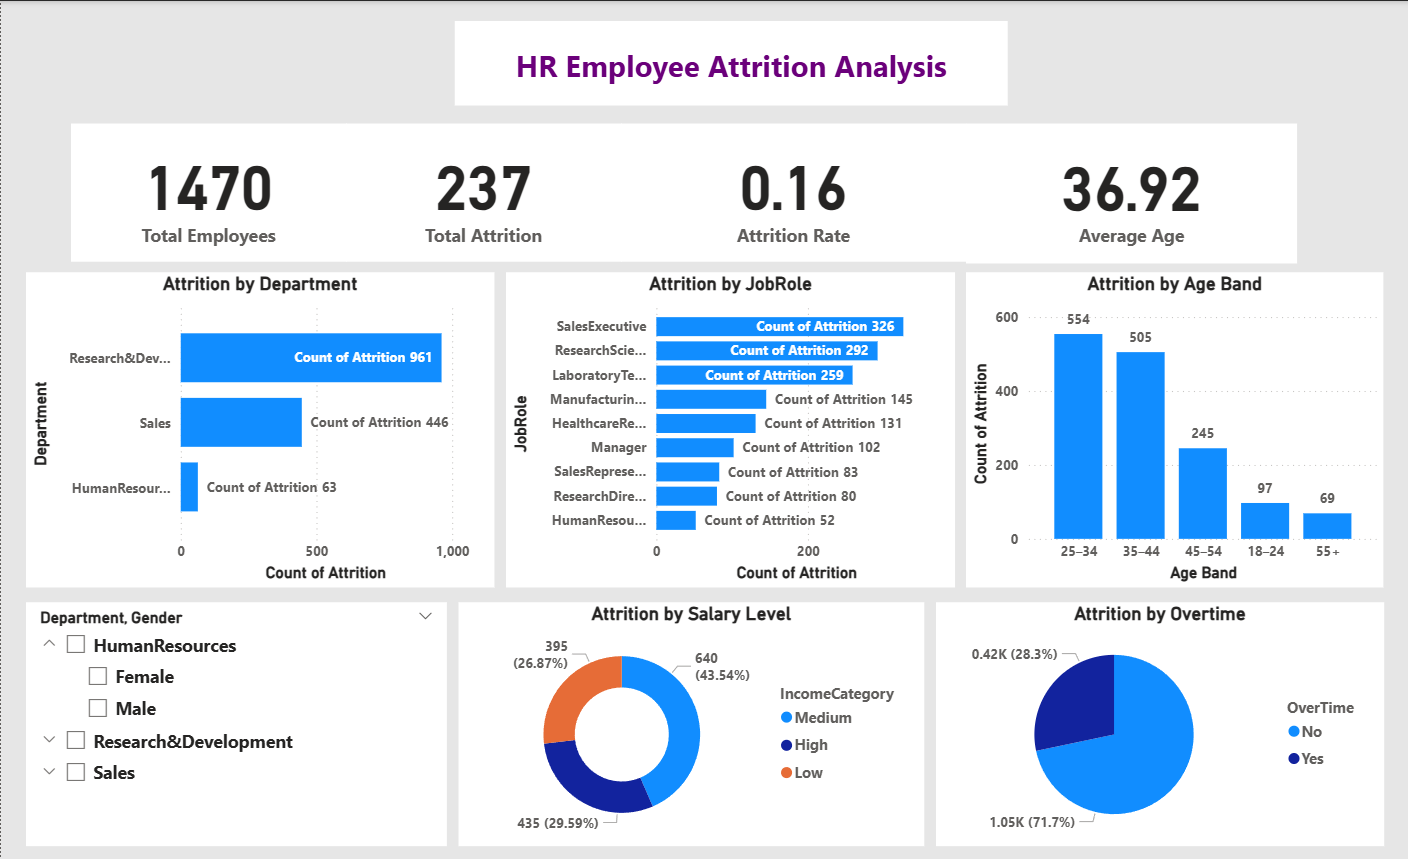

This screenshot's page, from the dashboard's own definition file:
{"tool":"powerbi","page":{"name":"HR Employee Attrition Dashboard","canvas":[1280,780],"ordinal":0},"visuals":[{"type":"card","fields":{"Values":["Employees.Total Employees"]},"box":[63.5,110.8,250.1,125.7],"z":0},{"type":"card","fields":{"Values":["Employees.Total Attrition"]},"box":[313.6,110.8,250.1,125.7],"z":1000},{"type":"card","fields":{"Values":["Employees.Attrition Rate"]},"box":[563.7,110.8,313.6,125.7],"z":2000},{"type":"card","fields":{"Values":["Employees.Average Age"]},"box":[877.3,110.8,301.2,126.9],"z":3000},{"type":"clusteredBarChart","title":"Attrition by Department","fields":{"Y":["CountNonNull(Employees.Attrition)"],"Category":["Employees.Department"]},"box":[22.4,246.4,425.6,286.2],"z":4000},{"type":"clusteredBarChart","title":"Attrition by JobRole","fields":{"Category":["Employees.JobRole"],"Y":["CountNonNull(Employees.Attrition)"]},"box":[459.2,246.4,408.2,286.2],"z":5000},{"type":"donutChart","title":"Attrition by Salary Level","fields":{"Category":["Employees.IncomeCategory"],"Y":["CountNonNull(Employees.Attrition)"]},"box":[415.6,546.3,423.1,221.5],"z":6000},{"type":"clusteredColumnChart","title":"Attrition by Age Band","fields":{"Category":["Employees.Age Band"],"Y":["CountNonNull(Employees.Attrition)"]},"box":[877.3,246.4,379.5,286.2],"z":7000},{"type":"pieChart","title":"Attrition by Overtime","fields":{"Category":["Employees.OverTime"],"Y":["CountNonNull(Employees.Attrition)"]},"box":[849.9,546.3,406.9,221.5],"z":8000},{"type":"slicer","fields":{"Values":["Employees.Department","Employees.Gender"]},"box":[22.4,546.3,382,221.5],"z":9000},{"type":"textbox","box":[411.9,18.7,502.7,77.2],"z":9001}]}

Visuals, with their boxes in screenshot pixels (x1, y1, x2, y2), scaled from the page's 1280x780 canvas onto the 1408x859 screenshot:
card - Employees.Total Employees: select_region(70, 122, 345, 260)
card - Employees.Total Attrition: select_region(345, 122, 620, 260)
card - Employees.Attrition Rate: select_region(620, 122, 965, 260)
card - Employees.Average Age: select_region(965, 122, 1296, 262)
"Attrition by Department" clusteredBarChart: select_region(25, 271, 493, 587)
"Attrition by JobRole" clusteredBarChart: select_region(505, 271, 954, 587)
"Attrition by Salary Level" donutChart: select_region(457, 602, 923, 846)
"Attrition by Age Band" clusteredColumnChart: select_region(965, 271, 1382, 587)
"Attrition by Overtime" pieChart: select_region(935, 602, 1382, 846)
slicer - Employees.Department x Employees.Gender: select_region(25, 602, 445, 846)
textbox: select_region(453, 21, 1006, 106)
